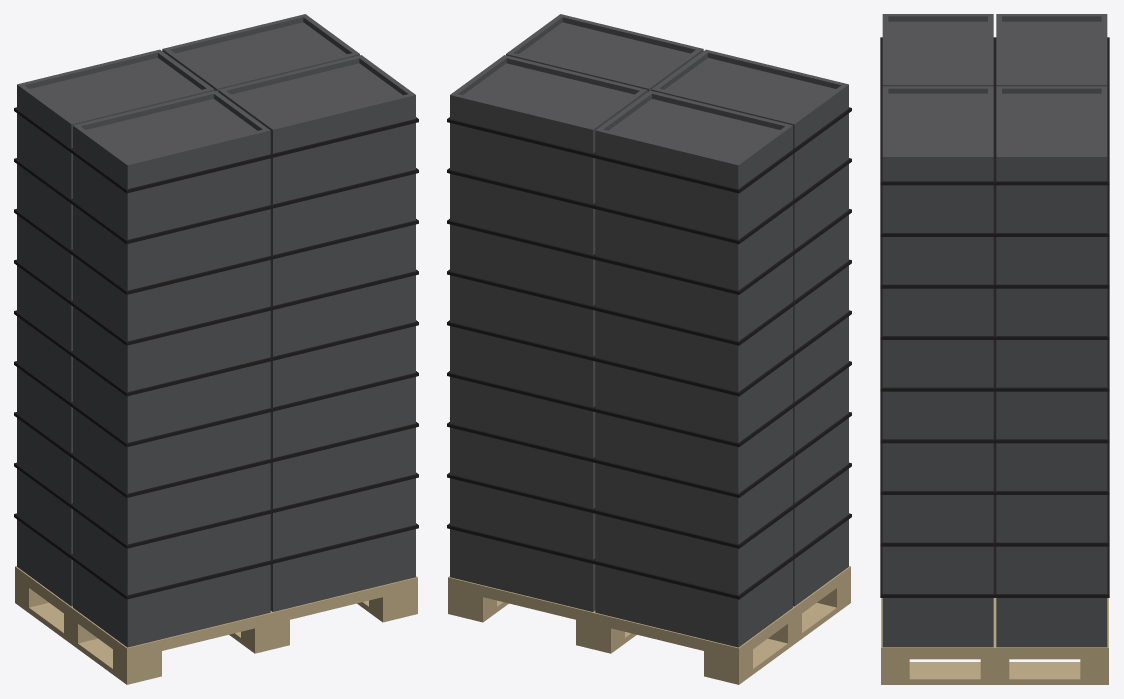
File: stapel_kratten.glb
3 views of the same model, side by side, from view 1: azimuth 30°, elevation 25°; view 2: azimuth 150°, elevation 25°; view 3: azimuth 270°, elevation 25° (orthographic).
Parts seen in each view (by area): view 1: kratten, pallet; view 2: kratten, pallet; view 3: kratten, pallet.
Part boxes in pixels (x1,y1,x2,y2): kratten: (14, 14, 418, 647); pallet: (15, 566, 417, 684); kratten: (447, 14, 851, 647); pallet: (448, 566, 850, 684); kratten: (880, 14, 1109, 647); pallet: (881, 598, 1108, 684).
Bounding box in the file's own units: 1.21 × 2.04 × 0.805.
